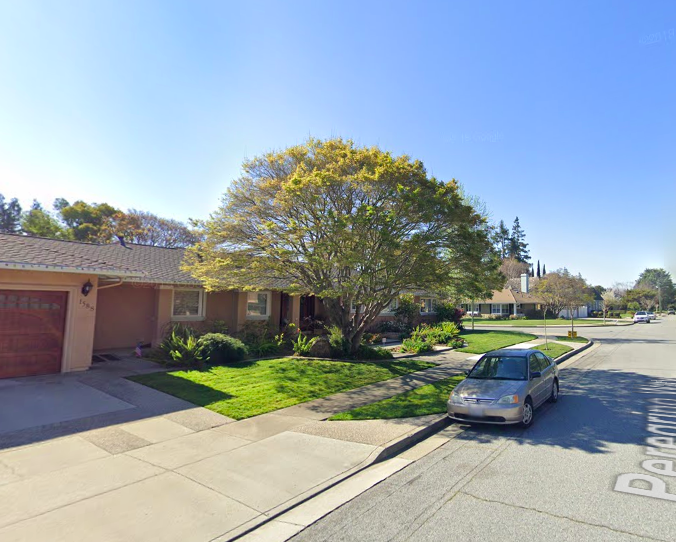tree: (178, 127, 509, 355)
